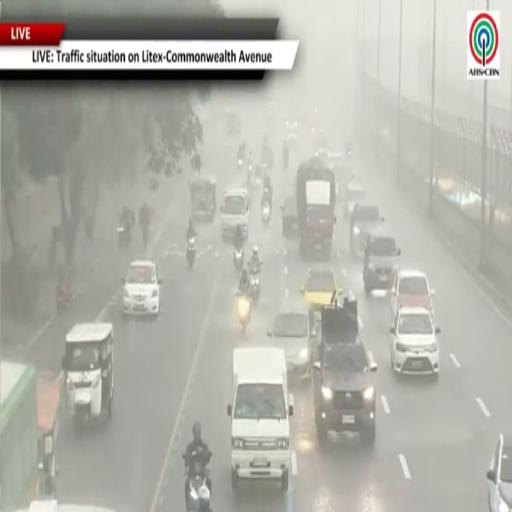bus: (0, 361, 38, 511)
car: (313, 298, 377, 444), (267, 306, 317, 378), (390, 308, 440, 377), (363, 227, 401, 294), (390, 269, 435, 325), (122, 260, 161, 316), (487, 434, 511, 511), (349, 203, 383, 254), (301, 266, 339, 309), (221, 188, 249, 239), (344, 183, 366, 219), (286, 120, 297, 142)
motorcycle: (186, 462, 211, 511), (237, 294, 251, 332), (57, 285, 73, 313), (250, 269, 260, 303), (118, 224, 131, 248), (187, 237, 196, 269), (234, 248, 244, 273), (255, 164, 266, 185), (262, 201, 270, 227), (283, 150, 288, 169), (238, 158, 243, 170)
truck: (228, 347, 293, 491), (295, 157, 336, 260), (282, 194, 298, 238)
